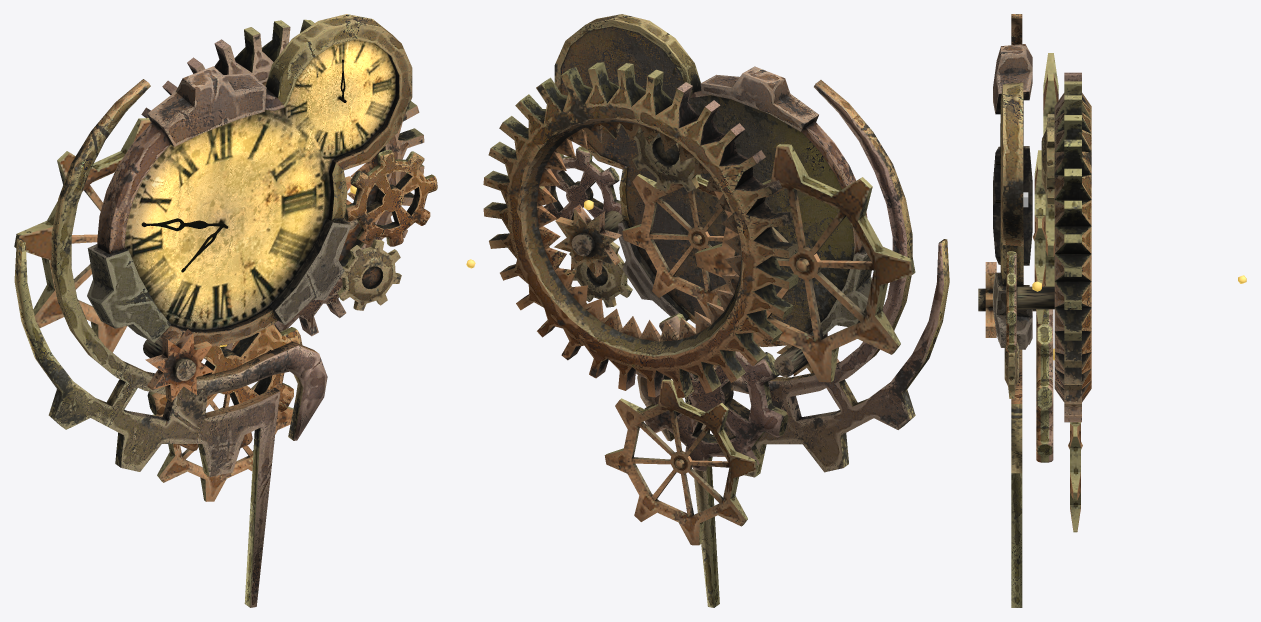
3 renders of one model, left to right at view 1: azimuth 30°, elevation 25°; view 2: azimuth 150°, elevation 25°; view 3: azimuth 270°, elevation 25°, orthographic.
Parts seen in each view (by area): view 1: Cylinder004, outerdecoration, Object003_Material #3_0, Object002_Material #3_0, Object007_Material #3_0, Object006_Material #3_0, Object004_Material #3_0, Object001_Material #3_0, Object005_Material #3_0; view 2: Object003_Material #3_0, Cylinder004, outerdecoration, Object007_Material #3_0, Object005_Material #3_0, Object006_Material #3_0, Object008_Material #3_0, Object002_Material #3_0, Object009_Material #3_0, Object010_Material #3_0, Object001_Material #3_0, Object004_Material #3_0; view 3: Object003_Material #3_0, Cylinder004, outerdecoration, Object006_Material #3_0, Object007_Material #3_0, Object008_Material #3_0, Object005_Material #3_0, Object002_Material #3_0, Object010_Material #3_0, Object004_Material #3_0, Object009_Material #3_0, Object001_Material #3_0.
Boxes of the visible parts, <box> form: Cylinder004: <box>87,14,412,346</box>; outerdecoration: <box>14,79,327,607</box>; Object003_Material #3_0: <box>141,19,424,350</box>; Object002_Material #3_0: <box>344,149,437,246</box>; Object007_Material #3_0: <box>14,118,151,352</box>; Object006_Material #3_0: <box>147,324,302,451</box>; Object004_Material #3_0: <box>143,329,213,402</box>; Object001_Material #3_0: <box>337,239,401,310</box>; Object005_Material #3_0: <box>152,340,293,501</box>; Object003_Material #3_0: <box>483,62,798,398</box>; Cylinder004: <box>554,14,871,346</box>; outerdecoration: <box>637,80,949,607</box>; Object007_Material #3_0: <box>695,144,915,382</box>; Object005_Material #3_0: <box>604,379,758,545</box>; Object006_Material #3_0: <box>635,313,788,470</box>; Object008_Material #3_0: <box>622,174,731,318</box>; Object002_Material #3_0: <box>543,146,621,220</box>; Object009_Material #3_0: <box>554,204,623,277</box>; Object010_Material #3_0: <box>628,127,699,192</box>; Object001_Material #3_0: <box>569,242,632,307</box>; Object004_Material #3_0: <box>774,333,839,377</box>; Object003_Material #3_0: <box>1054,72,1091,422</box>; Cylinder004: <box>993,44,1032,349</box>; outerdecoration: <box>1011,14,1022,607</box>; Object006_Material #3_0: <box>1036,309,1053,462</box>; Object007_Material #3_0: <box>1043,53,1058,286</box>; Object008_Material #3_0: <box>1032,150,1047,323</box>; Object005_Material #3_0: <box>1068,422,1082,532</box>; Object002_Material #3_0: <box>1006,251,1016,352</box>; Object010_Material #3_0: <box>1041,114,1054,207</box>; Object004_Material #3_0: <box>978,262,1036,337</box>; Object009_Material #3_0: <box>1017,286,1054,309</box>; Object001_Material #3_0: <box>1004,341,1019,398</box>.
Bounding box in the file's own units: 8734 × 10936 × 4775.
Materials: 2 (1 with a texture image).
